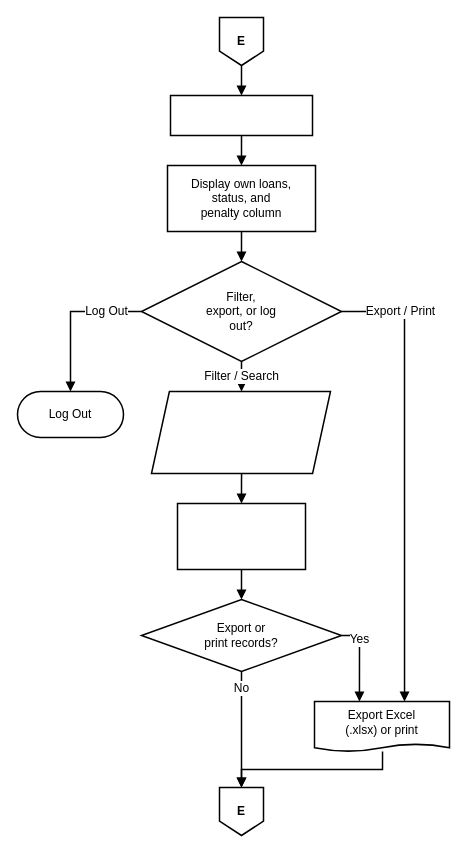
Some shapes in this 468 by 854 pixel diagram are drawn without their labels. Here are the shapes that lost their labels. From the top down, the centre of each, then its label:
At (x=241, y=115): "Open My Borrowing".
At (x=240, y=432): "Search or filter status / Settlements (Paid/Condoned)".
At (x=241, y=536): "View filtered records or open book details".
